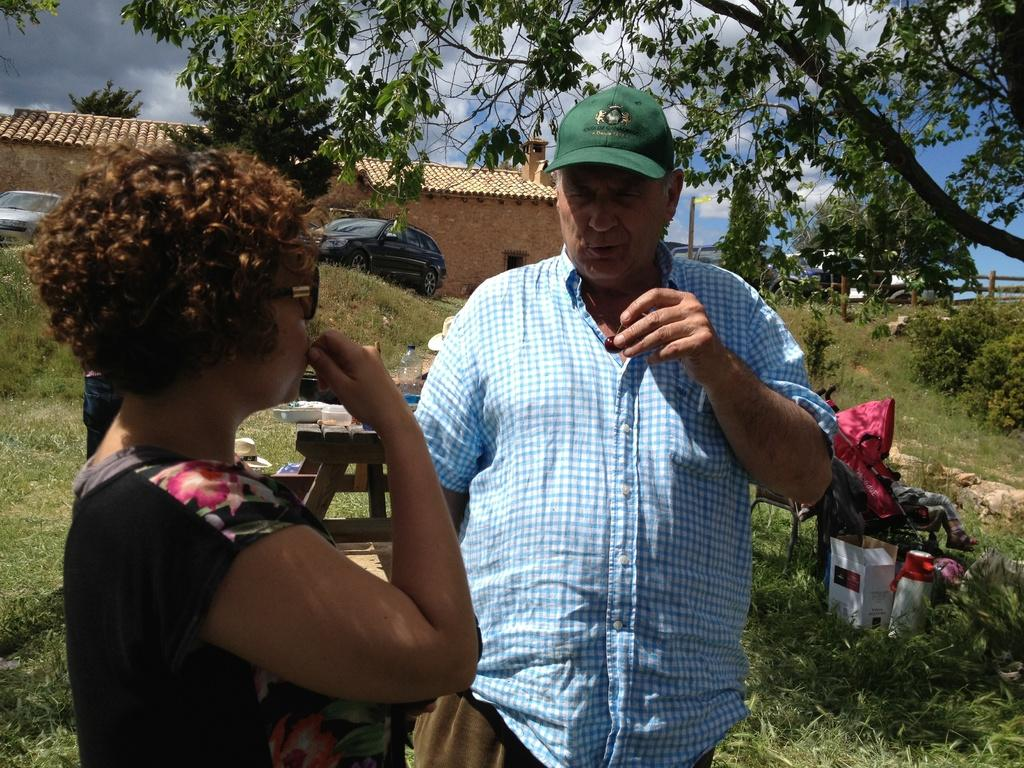Hat: (542, 84, 679, 184)
